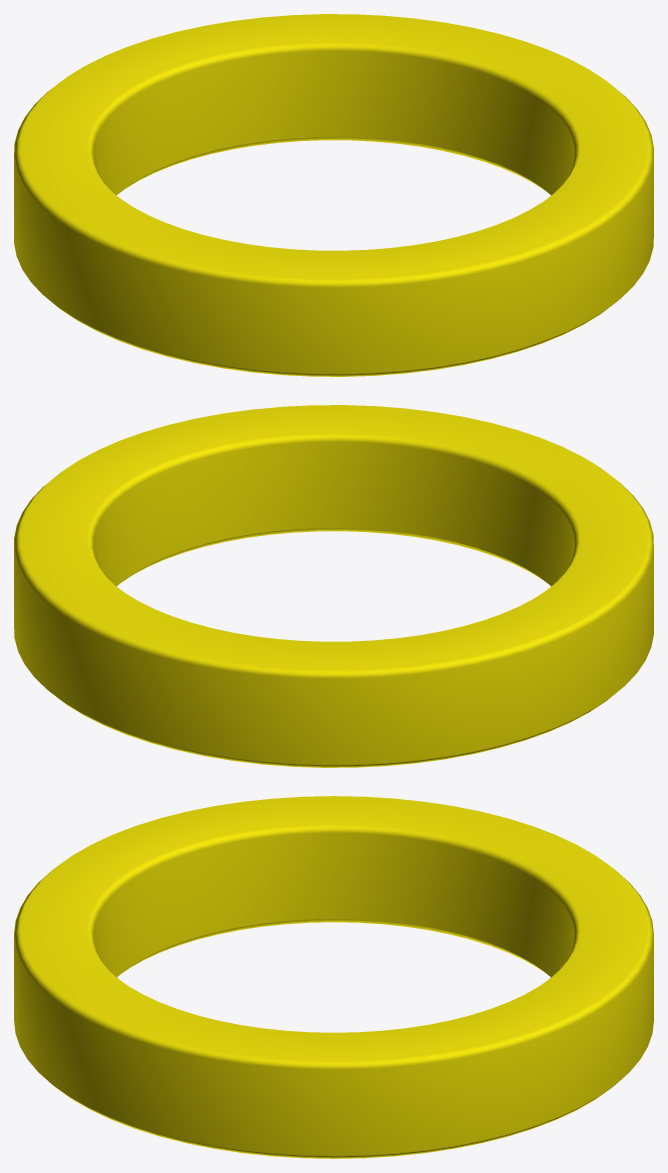
The picture shows the model from 3 angles, top to bottom: view 1: azimuth 30°, elevation 25°; view 2: azimuth 150°, elevation 25°; view 3: azimuth 270°, elevation 25°; orthographic projection.
Parts seen in each view (by area): view 1: seal_body; view 2: seal_body; view 3: seal_body.
Boxes of the visible parts, <box> form: seal_body: <box>14,14,653,376</box>; seal_body: <box>14,405,653,767</box>; seal_body: <box>14,796,653,1158</box>.
Size of the model in its own units: 0.0333 by 0.00562 by 0.0333.
